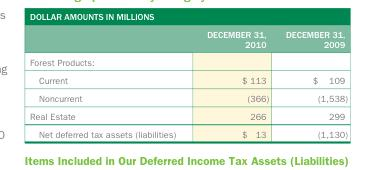table: (29, 28, 346, 139)
table column: (29, 28, 190, 139), (190, 28, 276, 139), (276, 28, 346, 139)
table column header: (29, 28, 346, 52)
table projected row header: (29, 52, 346, 70)
table row: (29, 28, 346, 52), (29, 106, 346, 125), (29, 52, 346, 70), (29, 70, 346, 88), (29, 88, 346, 106), (29, 125, 346, 139)
